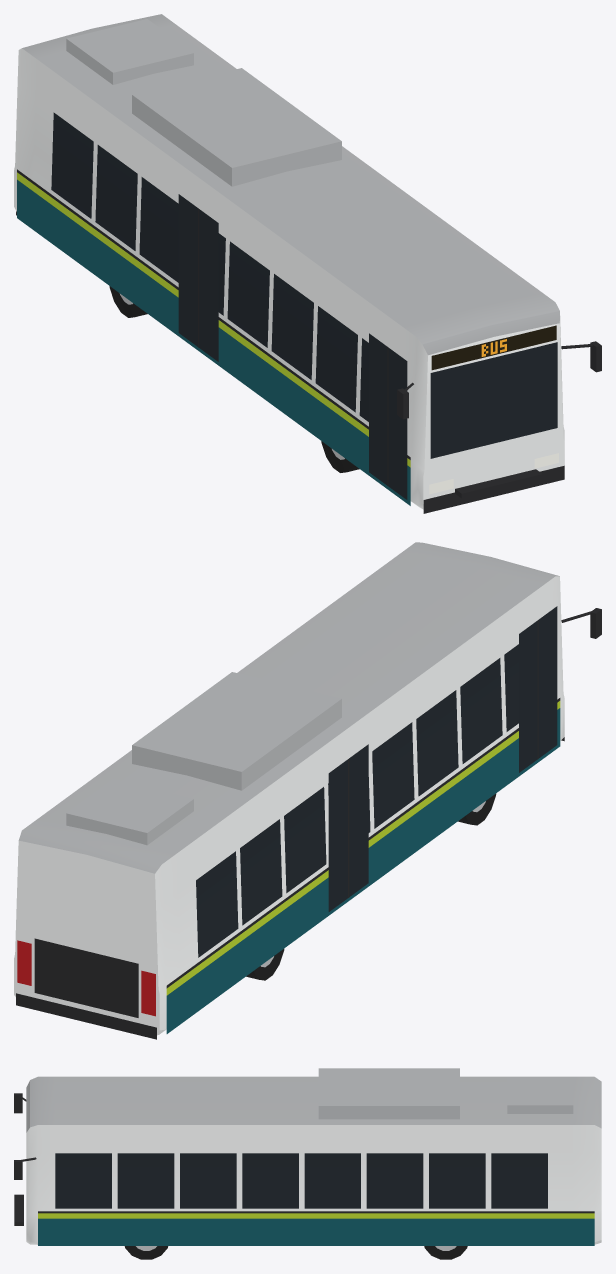
File: seattle_bus.glb
3 renders of one model, top to bottom at view 1: azimuth 30°, elevation 25°; view 2: azimuth 150°, elevation 25°; view 3: azimuth 270°, elevation 25°, orthographic. The views are drawn at different scales.
Parts seen in each view (by area): view 1: seattle_bus; view 2: seattle_bus; view 3: seattle_bus.
Boxes of the visible parts, box(x1,y1,x2,y2) form: seattle_bus: box(14, 14, 601, 513); seattle_bus: box(14, 542, 601, 1039); seattle_bus: box(14, 1068, 601, 1259).
Bounding box in the file's own units: 3.44 × 3.46 × 12.47.
1 material, 1 textured.
